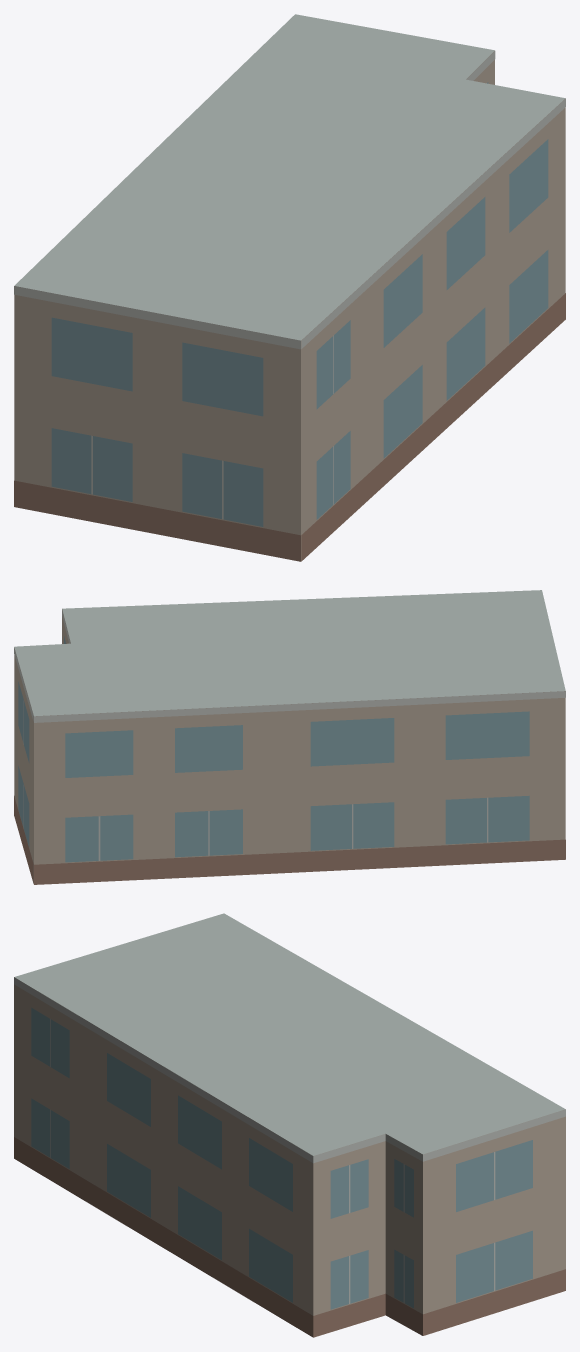
File: survey-upis-32969849.glb
3 views of the same model, one above another, from view 1: azimuth 30°, elevation 25°; view 2: azimuth 150°, elevation 25°; view 3: azimuth 270°, elevation 25° (orthographic). The views are drawn at different scales.
Visible parts, largest first — view 1: survey-upis-32969849.tmp; view 2: survey-upis-32969849.tmp; view 3: survey-upis-32969849.tmp.
Part boxes in pixels (x1,y1,x2,y2): survey-upis-32969849.tmp: [14, 14, 565, 561]; survey-upis-32969849.tmp: [14, 590, 565, 884]; survey-upis-32969849.tmp: [14, 913, 565, 1337].
Bounding box in the file's own units: 17.5 × 6.1 × 16.81.
